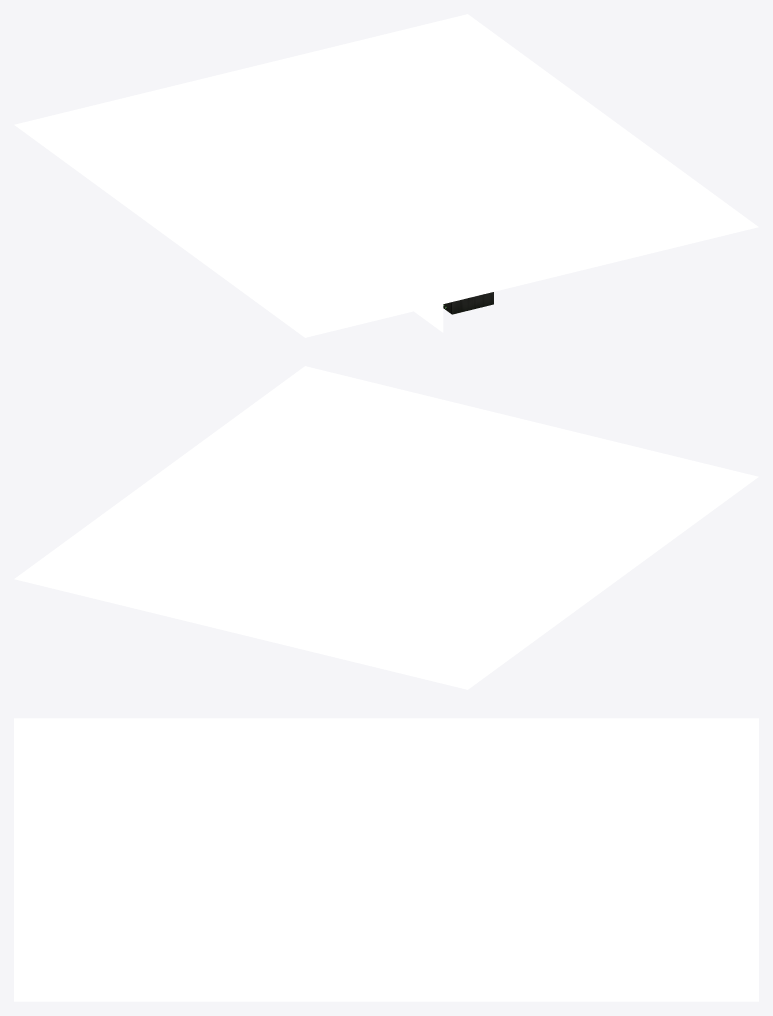
Rendered from cena.glb.
3 renders of one model, top to bottom at view 1: azimuth 30°, elevation 25°; view 2: azimuth 150°, elevation 25°; view 3: azimuth 270°, elevation 25°, orthographic. The views are drawn at different scales.
Parts seen in each view (by area): view 1: CeuBuraco, Paredes; view 2: CeuBuraco; view 3: CeuBuraco.
Part boxes in pixels (x1=…): CeuBuraco: x1=14, y1=14, x2=758, y2=337; Paredes: x1=443, y1=292, x2=493, y2=314; CeuBuraco: x1=14, y1=366, x2=758, y2=689; CeuBuraco: x1=14, y1=718, x2=758, y2=1001.
Bounding box in the file's own units: 90 × 14 × 100.
Materials: 33 (3 with a texture image).
